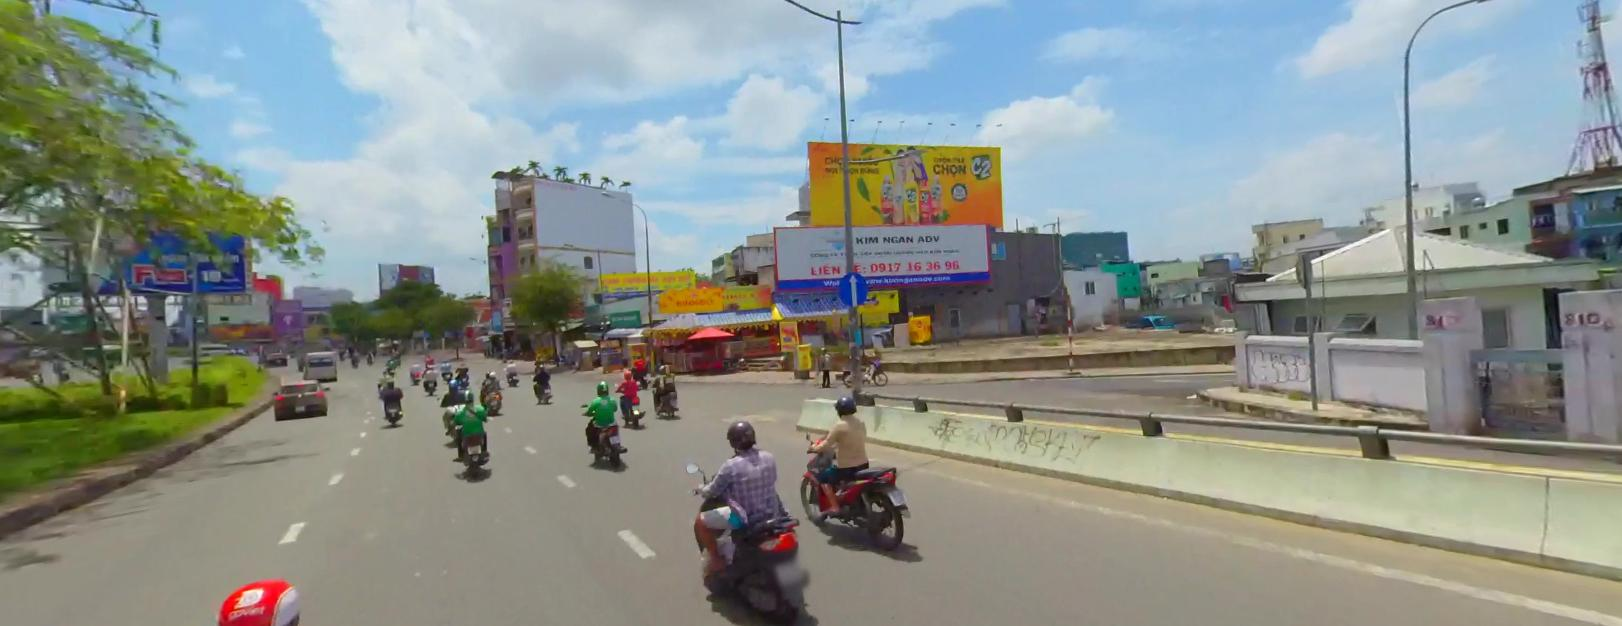Hieu lenh: (838, 271, 866, 305)
